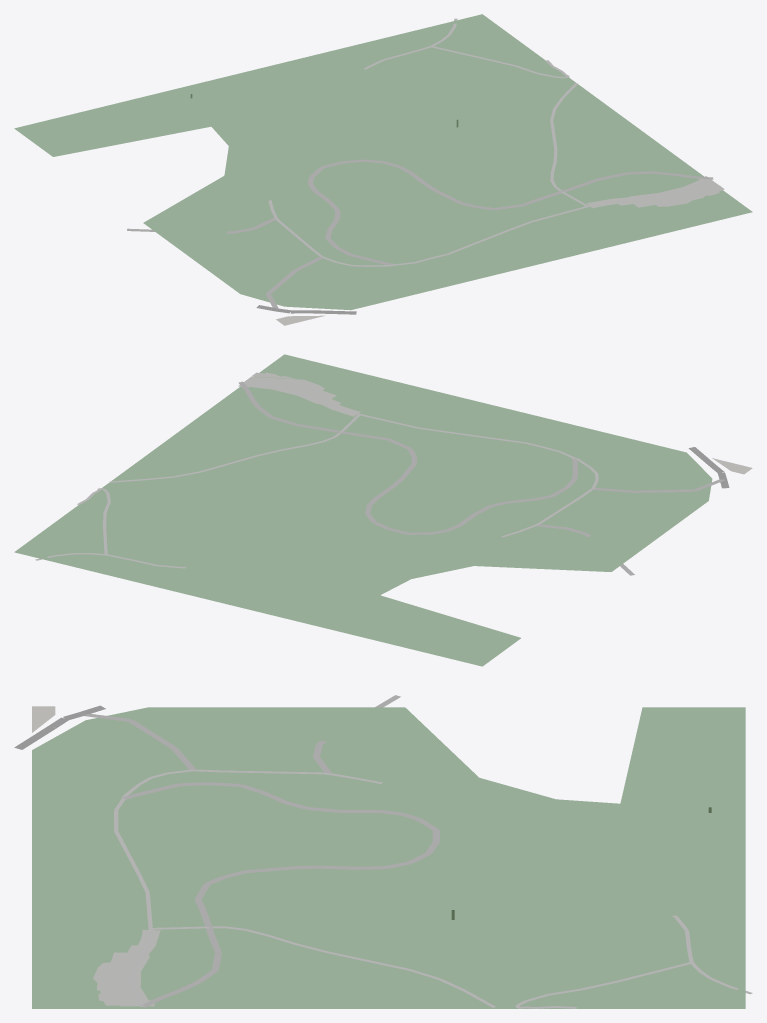
3 views of the same model, one above another, from view 1: azimuth 30°, elevation 25°; view 2: azimuth 150°, elevation 25°; view 3: azimuth 270°, elevation 25° (orthographic). The views are drawn at different scales.
Bounding box in the file's own units: 525 × 9.59 × 518.
